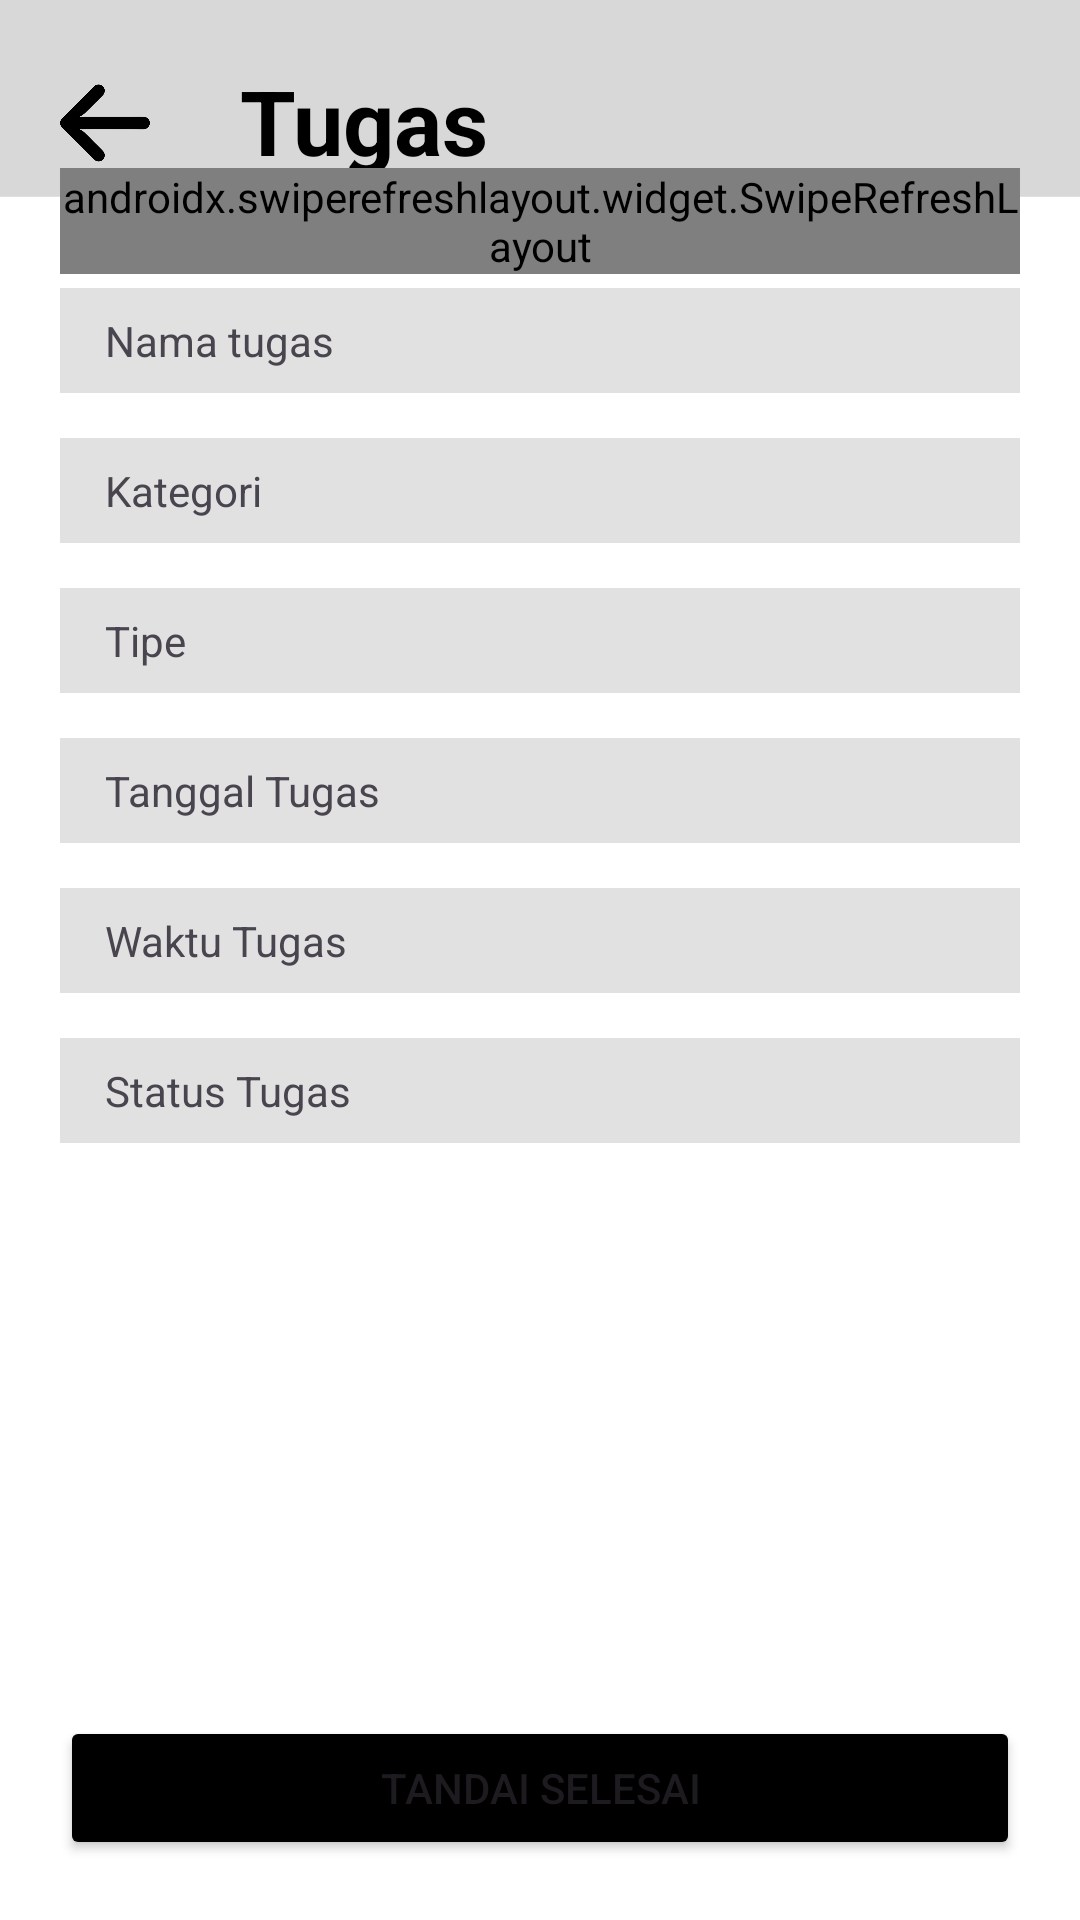

Screen size 1080*1920. Icon name, then its center in pixels as (x=x, y=y):
back: (x=105, y=123)
